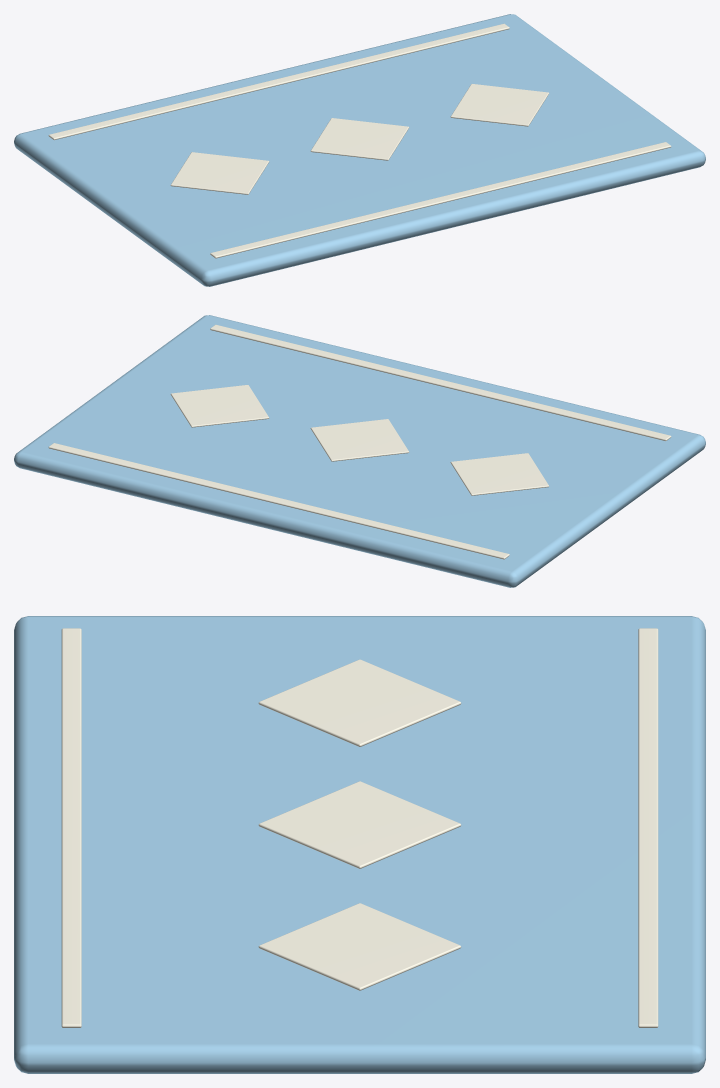
File: carpetClassic.glb
3 views of the same model, one above another, from view 1: azimuth 30°, elevation 25°; view 2: azimuth 150°, elevation 25°; view 3: azimuth 270°, elevation 25° (orthographic). The views are drawn at different scales.
Visible parts, largest first — view 1: Rug, Rug border, Rug border.001, Rug motif, Rug motif.001, Rug motif.002; view 2: Rug, Rug border, Rug border.001, Rug motif, Rug motif.001, Rug motif.002; view 3: Rug, Rug motif.002, Rug motif.001, Rug motif, Rug border, Rug border.001.
Part boxes in pixels (bbox=[...]): Rug: bbox=[14, 14, 705, 286]; Rug border: bbox=[210, 142, 671, 258]; Rug border.001: bbox=[48, 23, 509, 140]; Rug motif: bbox=[170, 152, 269, 194]; Rug motif.001: bbox=[310, 118, 409, 160]; Rug motif.002: bbox=[450, 84, 549, 126]; Rug: bbox=[14, 315, 705, 587]; Rug border: bbox=[210, 324, 671, 441]; Rug border.001: bbox=[48, 443, 509, 559]; Rug motif: bbox=[450, 453, 549, 495]; Rug motif.001: bbox=[310, 419, 409, 461]; Rug motif.002: bbox=[170, 385, 269, 427]; Rug: bbox=[14, 616, 705, 1073]; Rug motif.002: bbox=[258, 903, 461, 990]; Rug motif.001: bbox=[258, 781, 461, 868]; Rug motif: bbox=[258, 659, 461, 746]; Rug border: bbox=[61, 628, 81, 1027]; Rug border.001: bbox=[638, 628, 658, 1027].
Size of the model in its own units: 1.8 by 0.0685 by 1.2.
